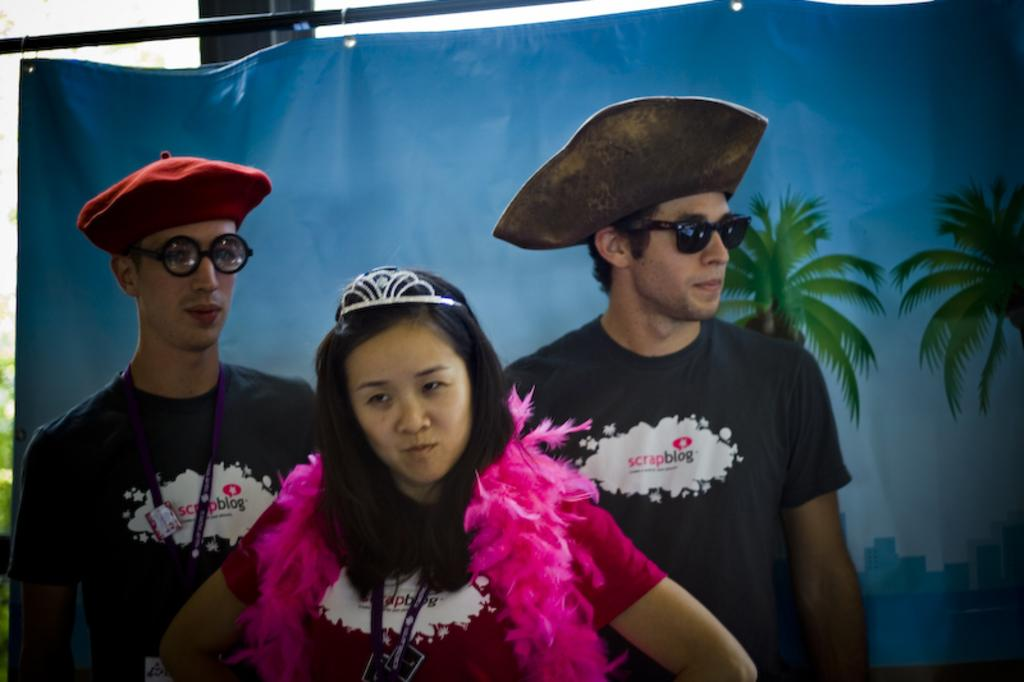Hat: (491, 94, 770, 253)
